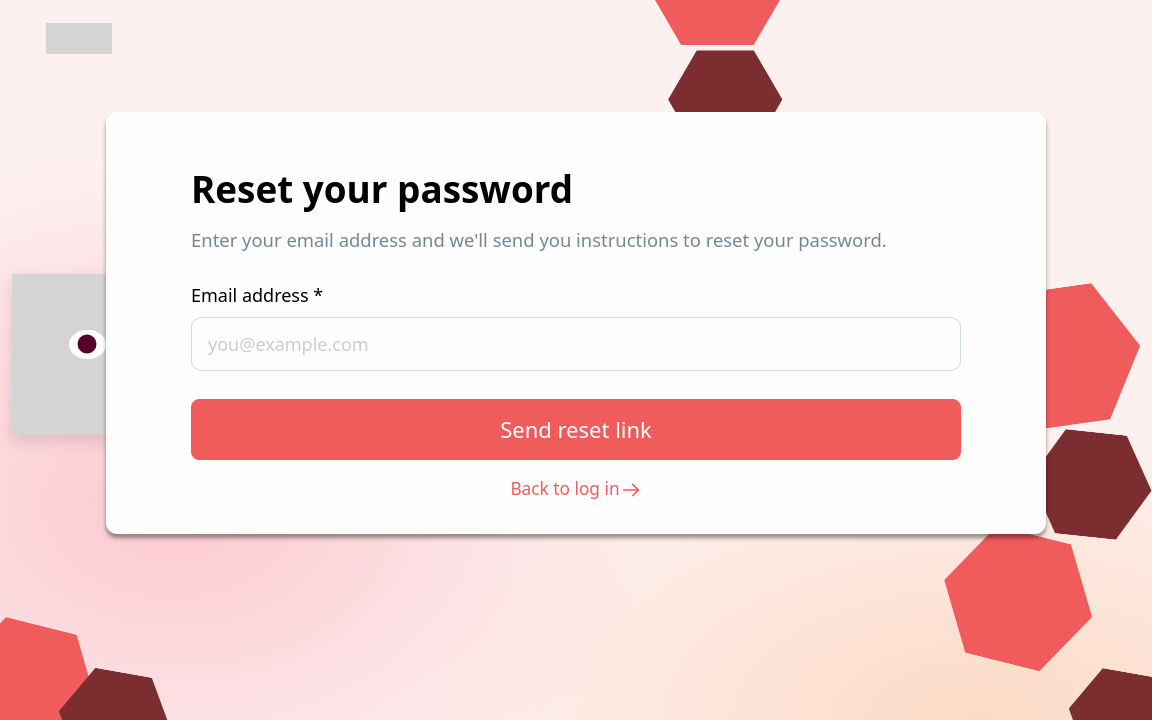
Test: ResetPassword page › displays over_email_send_rate_limit error message
Type "applicant@uwaterloo.ca" into the field labelled "Email address *" at point(576, 344), box [191,317,961,371]
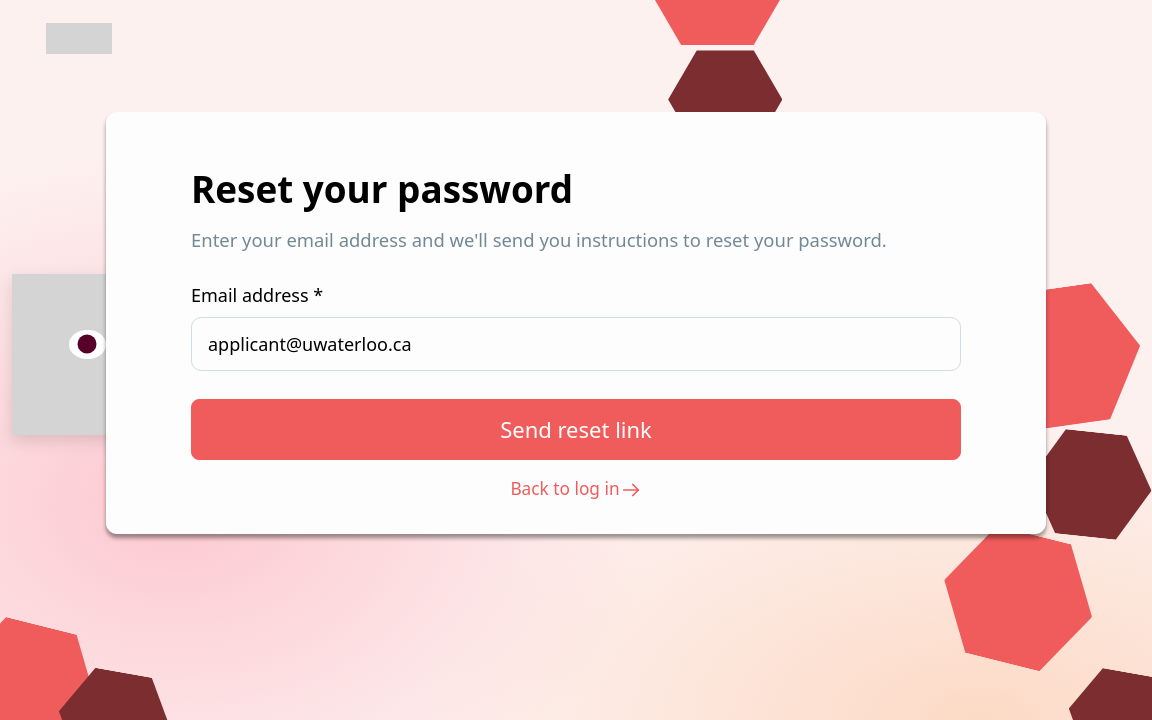
Click the button "Send reset link" at point(576, 430), box [191,399,961,460]
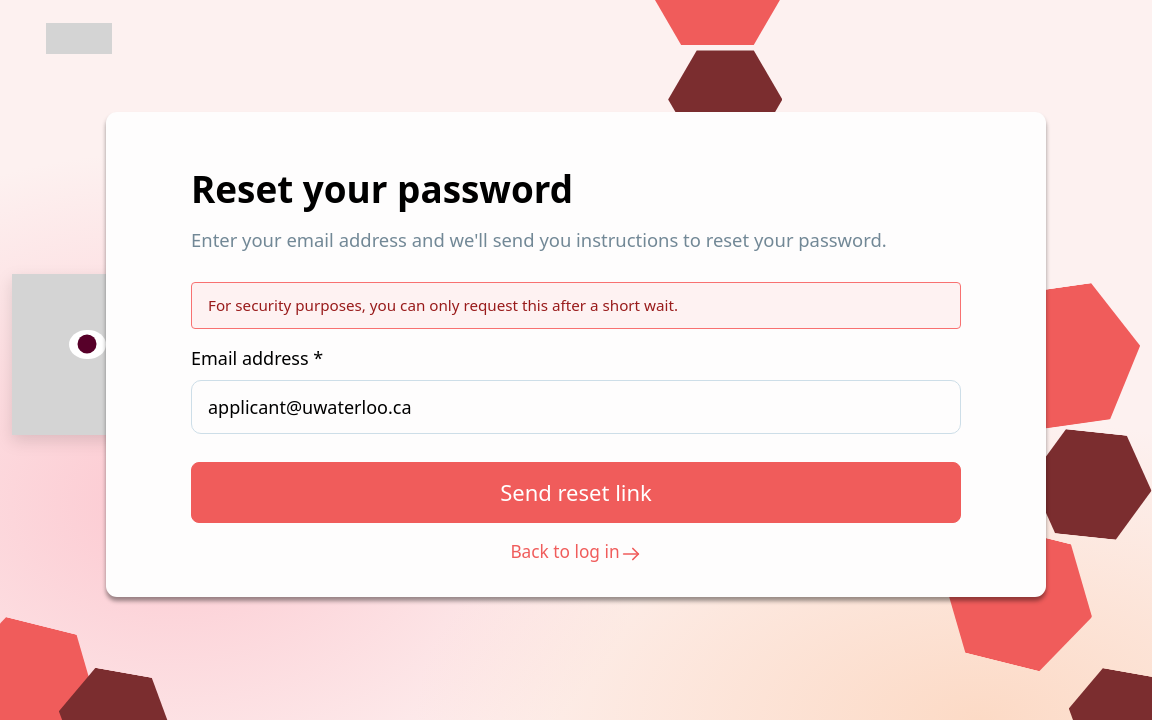
expect the text "For security purposes, you can only request this after a short wait." is shown: met, box [191,282,961,329]
